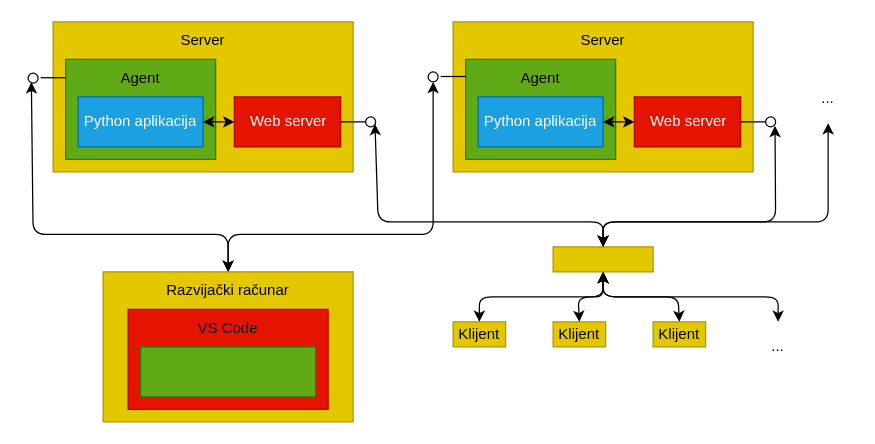
Image size: 875x444. Some labels were removed from this diagram. Each missing label, with the box of its shape:
IDE ekstenzija: (139, 346, 316, 397)
Load balancer: (552, 246, 653, 272)
